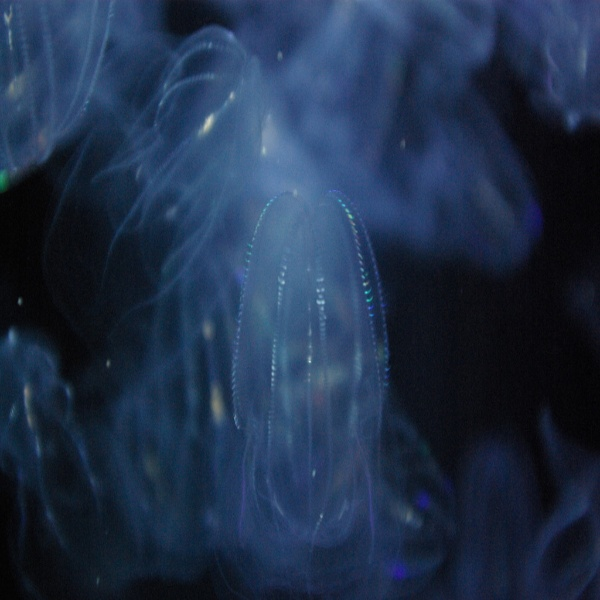Jellyfish: (0, 0, 599, 599), (227, 186, 390, 599)
